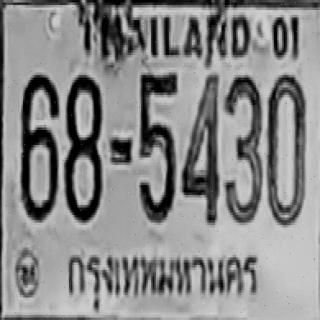N00: (266, 74, 306, 226)
N03: (223, 75, 262, 222)
N04: (180, 72, 219, 222)
N05: (138, 70, 177, 220)
N06: (20, 72, 59, 220)
N08: (64, 72, 102, 220)
P04: (58, 238, 265, 313)
